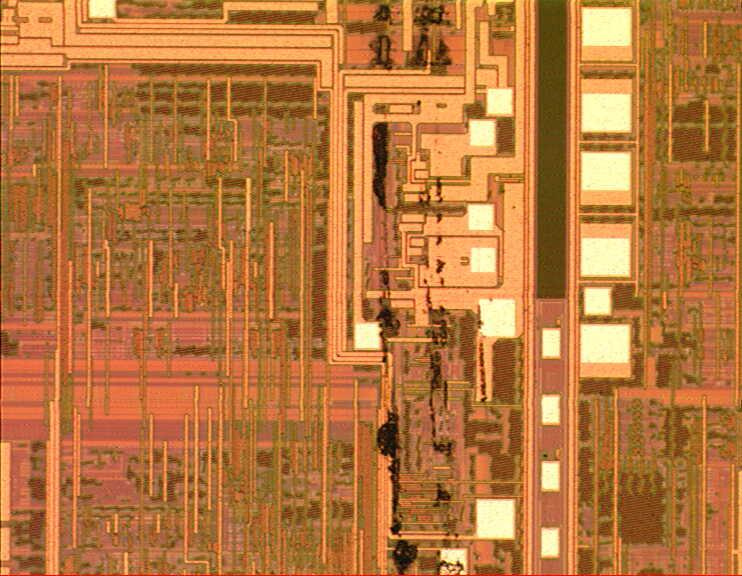SCRATCH: (368, 1, 494, 576)
